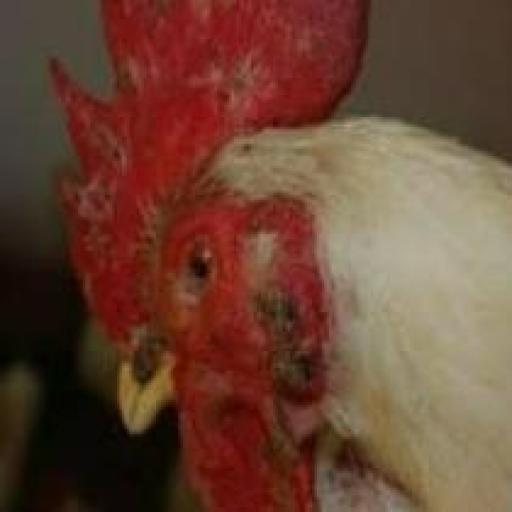disease: (245, 398, 326, 490), (80, 114, 132, 248), (199, 50, 293, 119), (251, 222, 326, 306), (250, 328, 330, 392), (189, 373, 249, 433), (210, 131, 271, 179), (283, 4, 334, 50), (116, 64, 167, 98)
